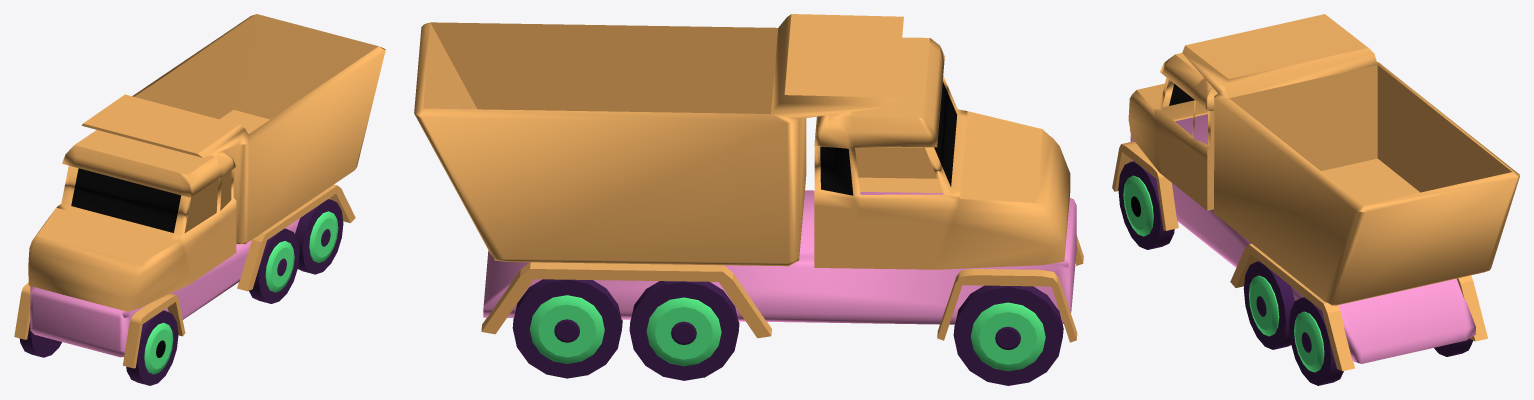
The model's file is ToyObject_055.fbx.
3 views of the same model, side by side, from view 1: azimuth 30°, elevation 25°; view 2: azimuth 150°, elevation 25°; view 3: azimuth 270°, elevation 25° (orthographic). The views are drawn at different scales.
Visible parts, largest first — view 1: object-1.028; view 2: object-1.028; view 3: object-1.028.
Part boxes in pixels (x1=…): object-1.028: x1=14, y1=14, x2=385, y2=385; object-1.028: x1=414, y1=14, x2=1083, y2=385; object-1.028: x1=1112, y1=14, x2=1519, y2=385.
Bounding box in the file's own units: 0.2489 × 0.1153 × 0.1807.
